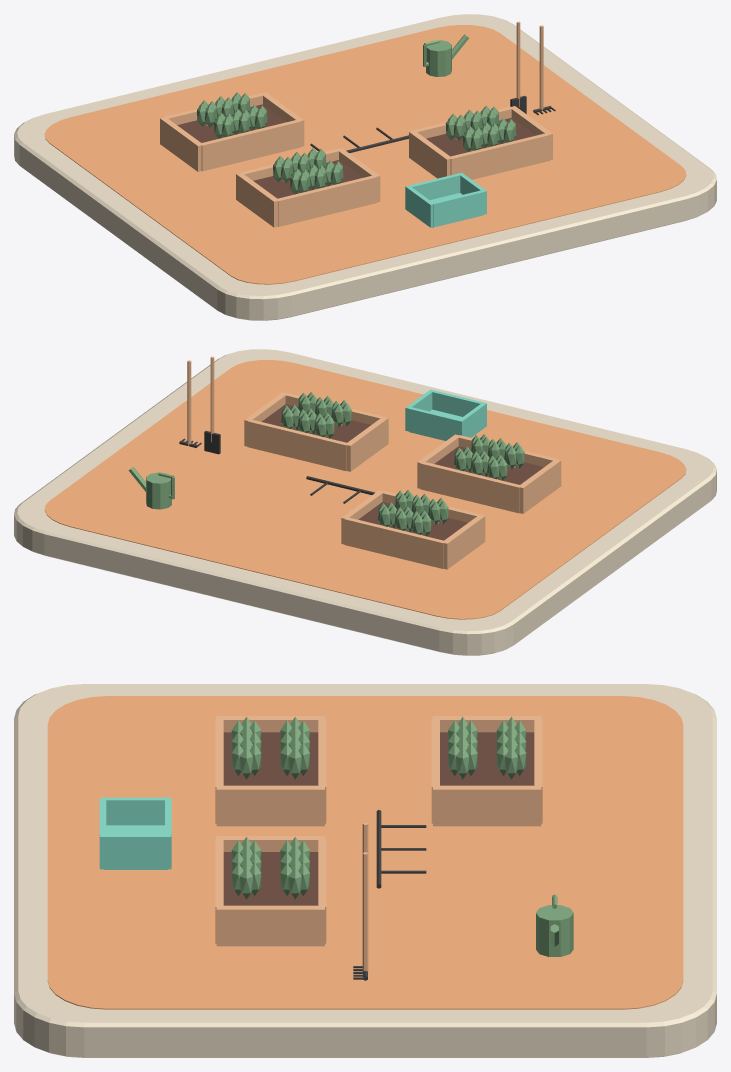
The picture shows the model from 3 angles, top to bottom: view 1: azimuth 30°, elevation 25°; view 2: azimuth 150°, elevation 25°; view 3: azimuth 270°, elevation 25°; orthographic projection. The views are drawn at different scales.
Visible parts, largest first — view 1: COM-02 Floor Surface, COM-01 Rounded Base Direct, Border.010, Border.002, Border.006, Bin end, Border.008, Border, Border.004, Can, Bin end.001, Soil (+7 smaller); view 2: COM-02 Floor Surface, COM-01 Rounded Base Direct, Border.003, Border.011, Border.007, Border, Border.004, Border.008, Bin end.001, Bin end, Can, Soil.001 (+9 smaller); view 3: COM-02 Floor Surface, COM-01 Rounded Base Direct, Border.005, Border.001, Border.009, Soil.001, Soil, Soil.002, Bin side.001, Bin side, Can, Border (+10 smaller).
Part boxes in pixels (<box>): COM-02 Floor Surface: <box>44,25,686,284</box>; COM-01 Rounded Base Direct: <box>14,14,716,320</box>; Border.010: <box>201,119,300,171</box>; Border.002: <box>276,175,376,226</box>; Border.006: <box>448,133,549,179</box>; Bin end: <box>432,190,484,226</box>; Border.008: <box>160,117,203,171</box>; Border: <box>236,172,278,227</box>; Border.004: <box>409,130,452,178</box>; Can: <box>426,40,451,76</box>; Bin end.001: <box>409,173,460,200</box>; Soil: <box>253,160,362,198</box>; COM-02 Floor Surface: <box>44,360,686,619</box>; COM-01 Rounded Base Direct: <box>14,349,716,655</box>; Border.003: <box>420,461,521,513</box>; Border.011: <box>344,517,443,568</box>; Border.007: <box>247,420,347,471</box>; Border: <box>518,459,561,513</box>; Border.004: <box>346,417,388,471</box>; Border.008: <box>442,515,485,569</box>; Bin end.001: <box>408,407,460,440</box>; Bin end: <box>431,390,483,416</box>; Can: <box>146,472,171,509</box>; Soil.001: <box>261,404,370,442</box>; COM-02 Floor Surface: <box>47,696,683,1009</box>; COM-01 Rounded Base Direct: <box>14,684,716,1057</box>; Border.005: <box>216,905,324,946</box>; Border.001: <box>216,785,324,826</box>; Border.009: <box>433,785,541,826</box>; Soil.001: <box>223,852,318,905</box>; Soil: <box>223,732,318,785</box>; Soil.002: <box>440,732,534,785</box>; Bin side.001: <box>100,834,171,869</box>; Bin side: <box>100,797,171,825</box>; Can: <box>536,905,573,956</box>; Border: <box>216,716,324,732</box>.
Size of the model in its own units: 6 by 1.4 by 5.2.
1 material, 1 textured.
